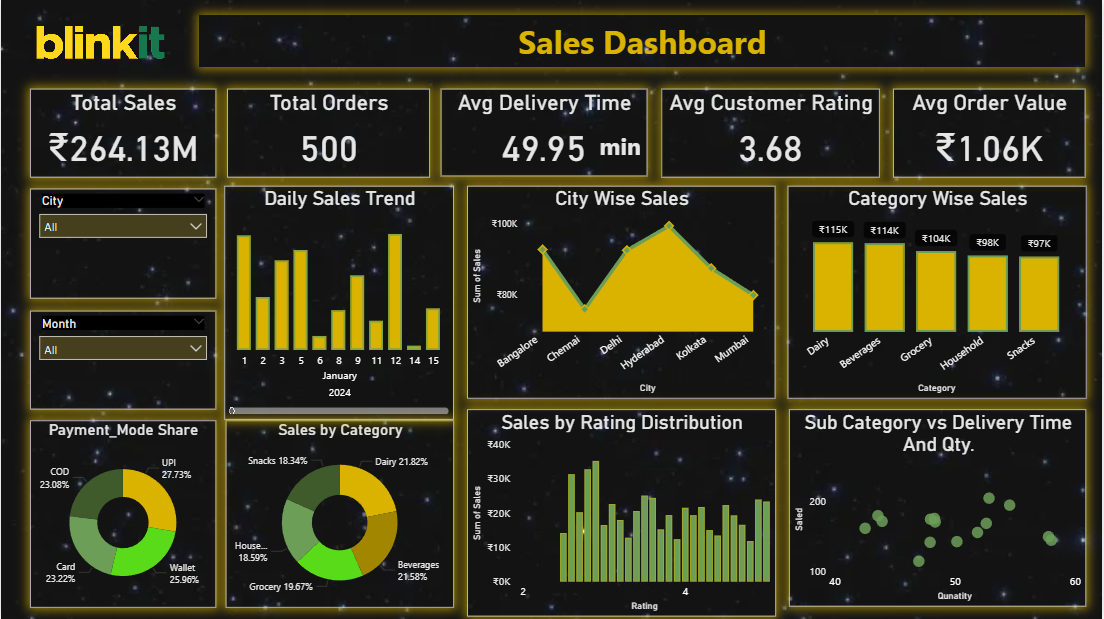

Layout of this report page (visuals, bound fields, positions):
{"tool":"powerbi","page":{"name":"Page 1","canvas":[1280,720],"ordinal":0},"visuals":[{"type":"image","box":[0,23.7,231.6,54.4],"z":0},{"type":"card","title":"Avg Delivery Time","fields":{"Values":["Sheet1.Avg Delivery Time (min)"]},"box":[511.9,103.2,239.9,101.8],"z":1000},{"type":"card","title":"Avg Customer Rating","fields":{"Values":["Sheet1.Avg Customer Rating"]},"box":[768.1,103.2,253.8,103.2],"z":2000},{"type":"card","title":"Total Sales","fields":{"Values":["Sum(Sheet1.Total Sales)"]},"box":[34.4,103.2,216.2,103.2],"z":3000},{"type":"card","title":"Total Orders","fields":{"Values":["Sheet1.Total Orders"]},"box":[262.2,103.2,235.7,103.2],"z":4000},{"type":"textbox","box":[230.9,18,1030.1,60.6],"z":5000},{"type":"card","title":"Avg Order Value","fields":{"Values":["Sheet1.Avg Order Value"]},"box":[1037.8,103.2,223.2,103.2],"z":6000},{"type":"textbox","box":[676.5,146.5,87.9,60],"z":7000},{"type":"slicer","fields":{"Values":["Sheet1.City"]},"box":[34.4,219.4,216.2,127.7],"z":8000},{"type":"slicer","fields":{"Values":["Sheet1.Month"]},"box":[34.4,361.9,216.2,114.6],"z":9000},{"type":"donutChart","title":"Payment_Mode Share","fields":{"Y":["Sum(Sheet1.Sales)"],"Category":["Sheet1.Payment_Mode"]},"box":[34.4,488,216.2,217.8],"z":10000},{"type":"donutChart","title":"Sales by Category","fields":{"Category":["Sheet1.Category"],"Y":["Sum(Sheet1.Sales)"]},"box":[262,488,265.3,217.8],"z":11000},{"type":"scatterChart","title":"Sub Category vs Delivery Time  And Qty.","fields":{"X":["Avg(Sheet1.Delivery_Time_Minutes)"],"Y":["Sum(Sheet1.Quantity)"],"Category":["Sheet1.Sub_Category"]},"box":[915.4,476.6,345.5,229.3],"z":12000},{"type":"clusteredColumnChart","title":" Sales by Rating Distribution","fields":{"Y":["Sum(Sheet1.Sales)"],"Category":["Sheet1.Rating"]},"box":[542.1,476.6,358.6,240.7],"z":13000},{"type":"lineClusteredColumnComboChart","title":"Category Wise Sales","fields":{"Category":["Sheet1.Category"],"Y":["Sum(Sheet1.Sales)"]},"box":[915.1,216.2,347.3,246.9],"z":14000},{"type":"areaChart","title":"City Wise Sales","fields":{"Category":["Sheet1.City","Sheet1.Category"],"Y":["Sum(Sheet1.Sales)"]},"box":[542.6,216.2,358.5,246.9],"z":15000},{"type":"lineClusteredColumnComboChart","title":"Daily Sales Trend","fields":{"Category":["Sheet1.Order_Date.Variation.Date Hierarchy.Year","Sheet1.Order_Date.Variation.Date Hierarchy.Month","Sheet1.Order_Date.Variation.Date Hierarchy.Day"],"Y":["Sum(Sheet1.Sales)"]},"box":[260.4,216.2,266.9,271.8],"z":16000}]}

Visuals, with their boxes in screenshot pixels (x1, y1, x2, y2), scaled from the page's 1280x720 canvas onto the 1104x619 screenshot:
image: detection(0, 20, 200, 67)
"Avg Delivery Time" card: detection(442, 89, 648, 176)
"Avg Customer Rating" card: detection(662, 89, 881, 177)
"Total Sales" card: detection(30, 89, 216, 177)
"Total Orders" card: detection(226, 89, 429, 177)
textbox: detection(199, 15, 1088, 68)
"Avg Order Value" card: detection(895, 89, 1088, 177)
textbox: detection(583, 126, 659, 178)
slicer - Sheet1.City: detection(30, 189, 216, 298)
slicer - Sheet1.Month: detection(30, 311, 216, 410)
"Payment_Mode Share" donutChart: detection(30, 420, 216, 607)
"Sales by Category" donutChart: detection(226, 420, 455, 607)
"Sub Category vs Delivery Time  And Qty." scatterChart: detection(790, 410, 1088, 607)
" Sales by Rating Distribution" clusteredColumnChart: detection(468, 410, 777, 617)
"Category Wise Sales" lineClusteredColumnComboChart: detection(789, 186, 1089, 398)
"City Wise Sales" areaChart: detection(468, 186, 777, 398)
"Daily Sales Trend" lineClusteredColumnComboChart: detection(225, 186, 455, 420)
